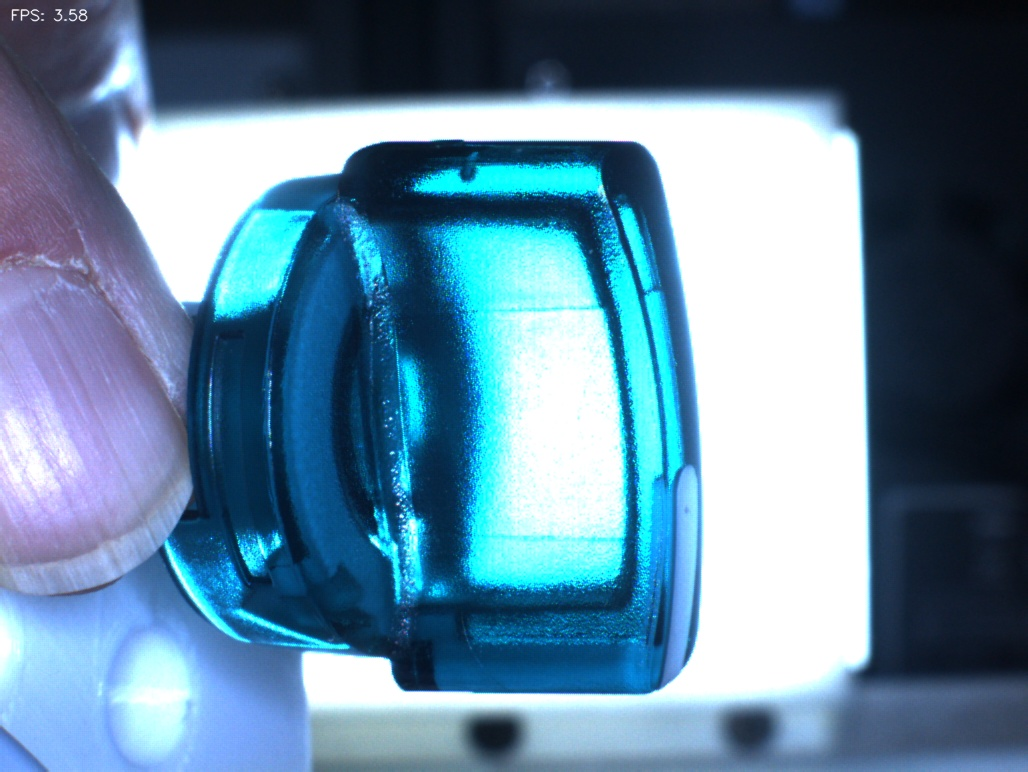Bulle: (432, 106, 520, 235)
